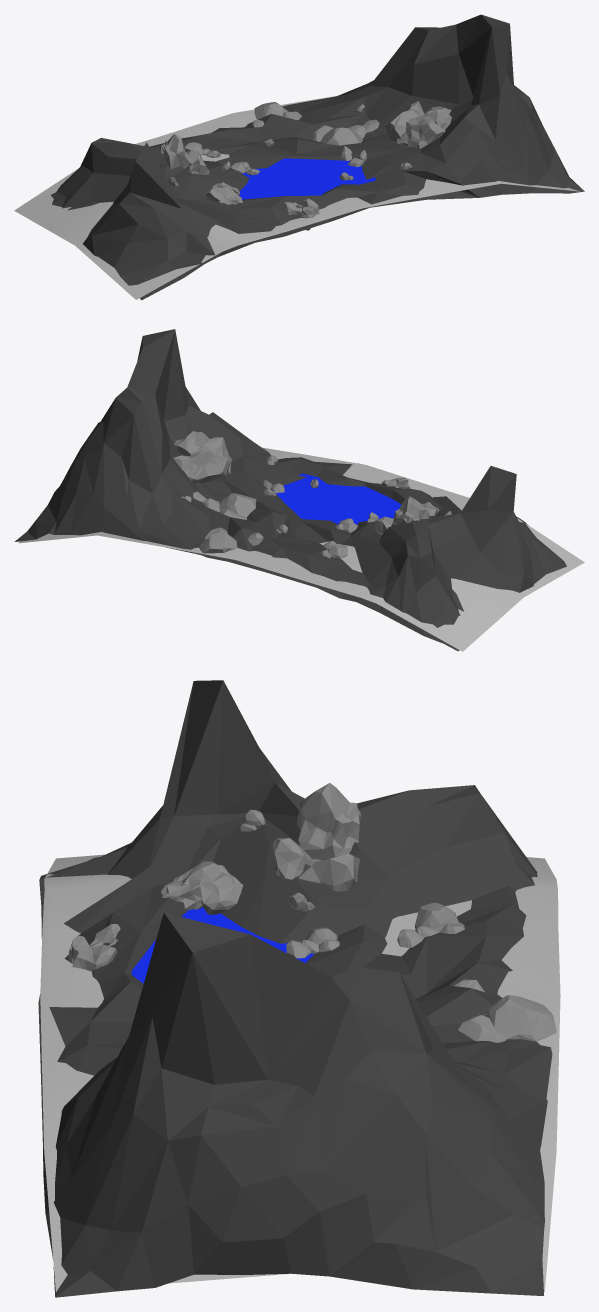
Rendered from Tal_10.FBX.
3 views of the same model, one above another, from view 1: azimuth 30°, elevation 25°; view 2: azimuth 150°, elevation 25°; view 3: azimuth 270°, elevation 25° (orthographic). The views are drawn at different scales.
Parts seen in each view (by area): view 1: Sphere101; view 2: Sphere101; view 3: Sphere101.
Boxes of the visible parts, x1,y1,x2,y2 form: Sphere101: [14, 14, 584, 300]; Sphere101: [14, 329, 584, 651]; Sphere101: [38, 680, 560, 1297].
Size of the model in its own units: 45.81 by 15.67 by 23.03.
